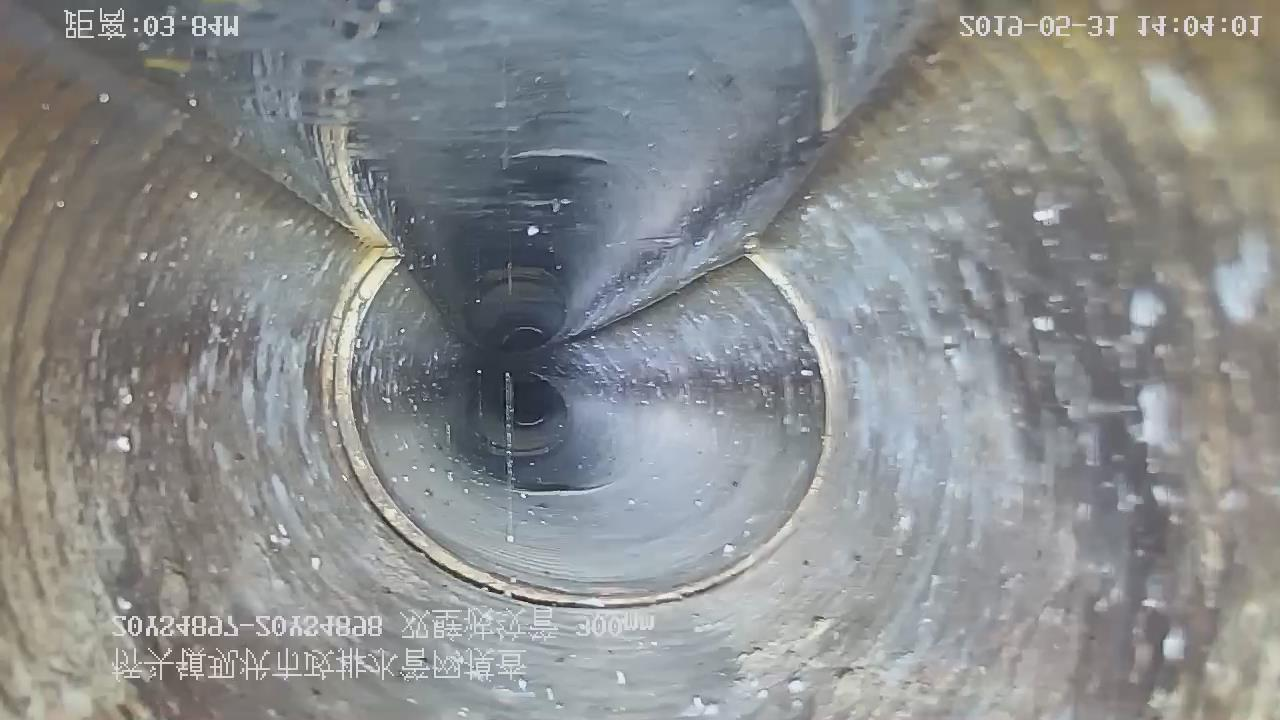BX: (444, 328, 669, 496)
CKTJ: (324, 245, 845, 614)
